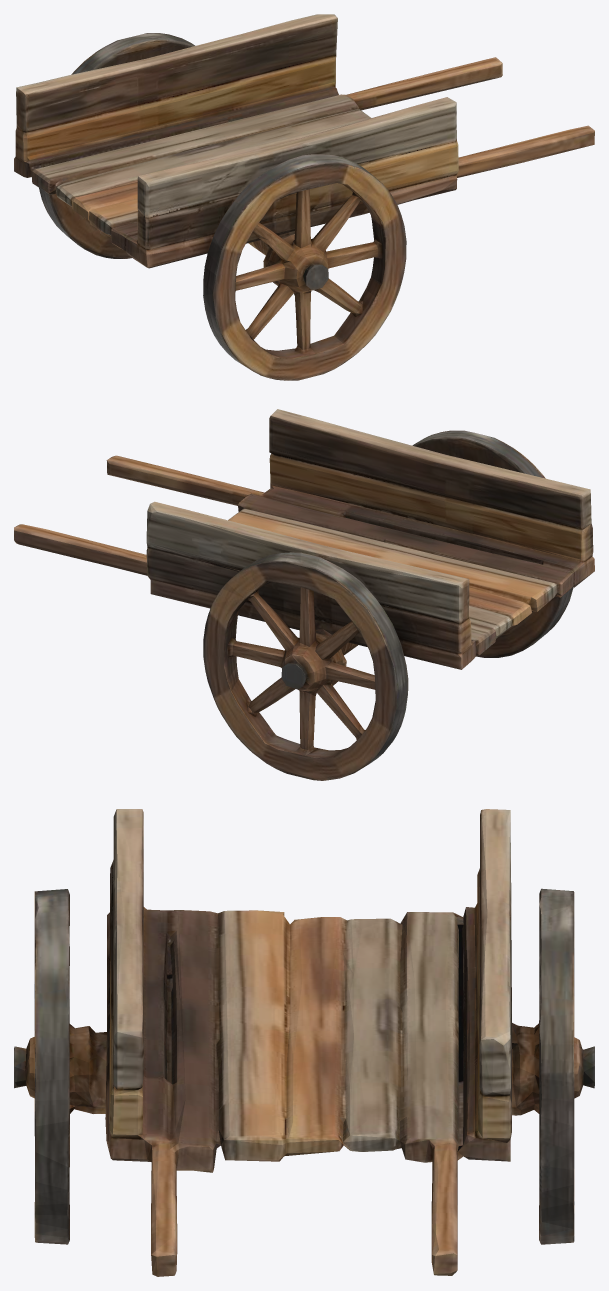
Rendered from cart_cargo_spoke_lod0.glb.
The picture shows the model from 3 angles, top to bottom: view 1: azimuth 30°, elevation 25°; view 2: azimuth 150°, elevation 25°; view 3: azimuth 270°, elevation 25°; orthographic projection. The views are drawn at different scales.
Parts seen in each view (by area): view 1: cart_cargo_spoke_lod0; view 2: cart_cargo_spoke_lod0; view 3: cart_cargo_spoke_lod0.
Boxes of the visible parts, x1,y1,x2,y2 form: cart_cargo_spoke_lod0: (14, 14, 594, 380); cart_cargo_spoke_lod0: (14, 409, 594, 780); cart_cargo_spoke_lod0: (14, 809, 594, 1276).
Size of the model in its own units: 3.5 by 1.55 by 2.5.
1 material, 1 textured.
